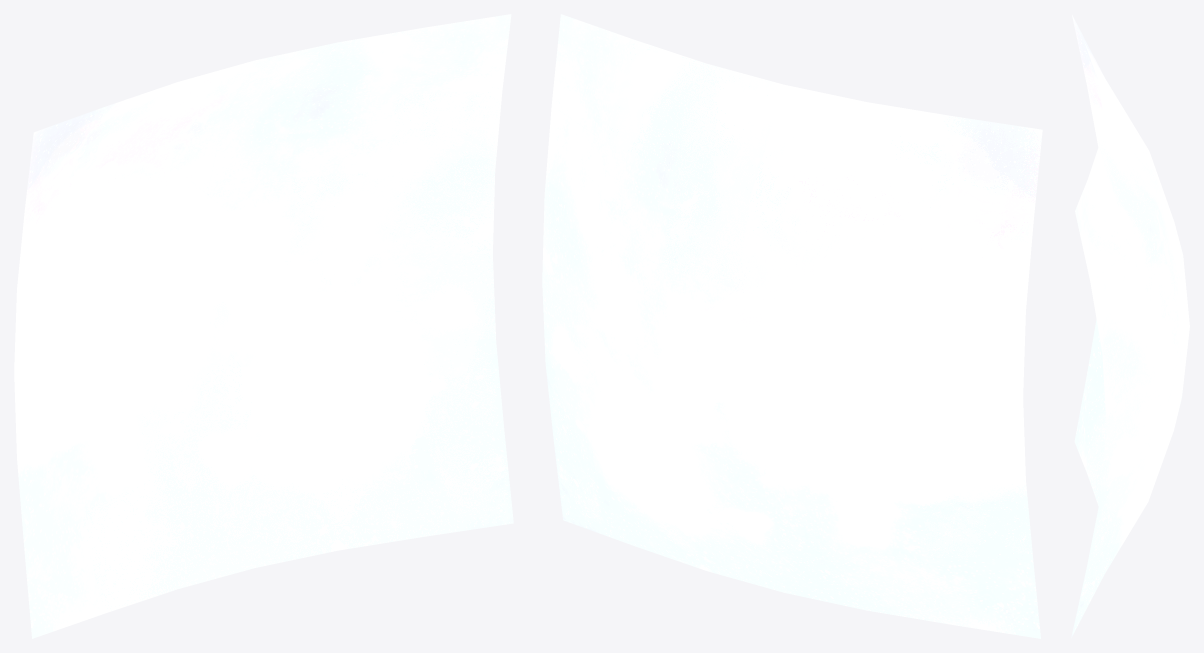
The model's file is bg_solarian2_3db.gltf.
The picture shows the model from 3 angles, left to right: view 1: azimuth 30°, elevation 25°; view 2: azimuth 150°, elevation 25°; view 3: azimuth 270°, elevation 25°; orthographic projection. The views are drawn at different scales.
Visible parts, largest first — view 1: bg_solarian2.3db; view 2: bg_solarian2.3db; view 3: bg_solarian2.3db.
Boxes of the visible parts, bbox=[...] form: bg_solarian2.3db: bbox=[14, 14, 513, 638]; bg_solarian2.3db: bbox=[542, 14, 1042, 638]; bg_solarian2.3db: bbox=[1071, 15, 1189, 637].
Bounding box in the file's own units: 73.75 × 74.6 × 18.8.
Materials: 4 (4 with a texture image).
